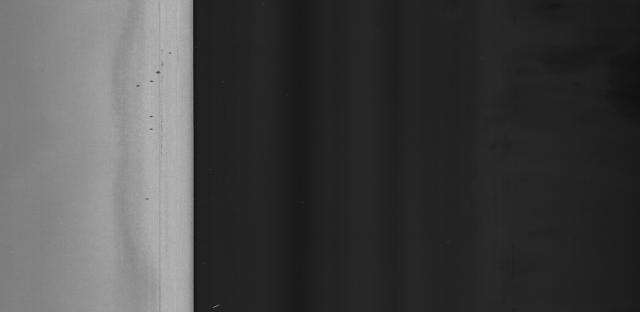inclusion: (133, 77, 155, 90), (150, 62, 170, 76), (146, 110, 156, 133)
